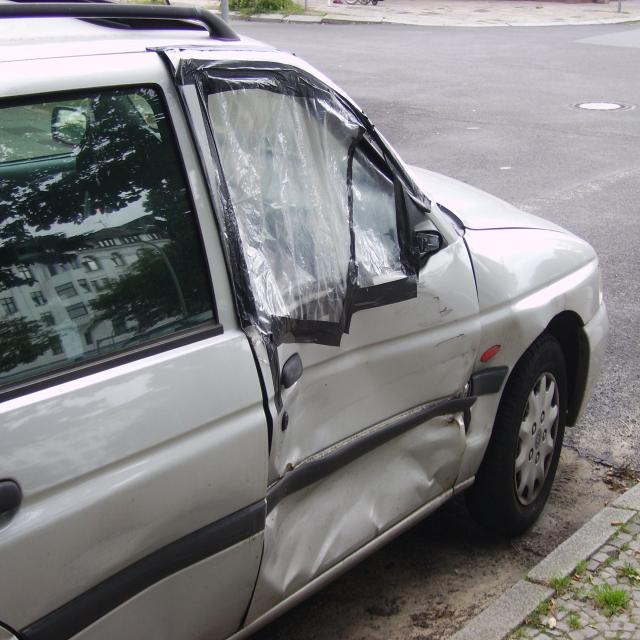crush: (148, 48, 521, 626)
